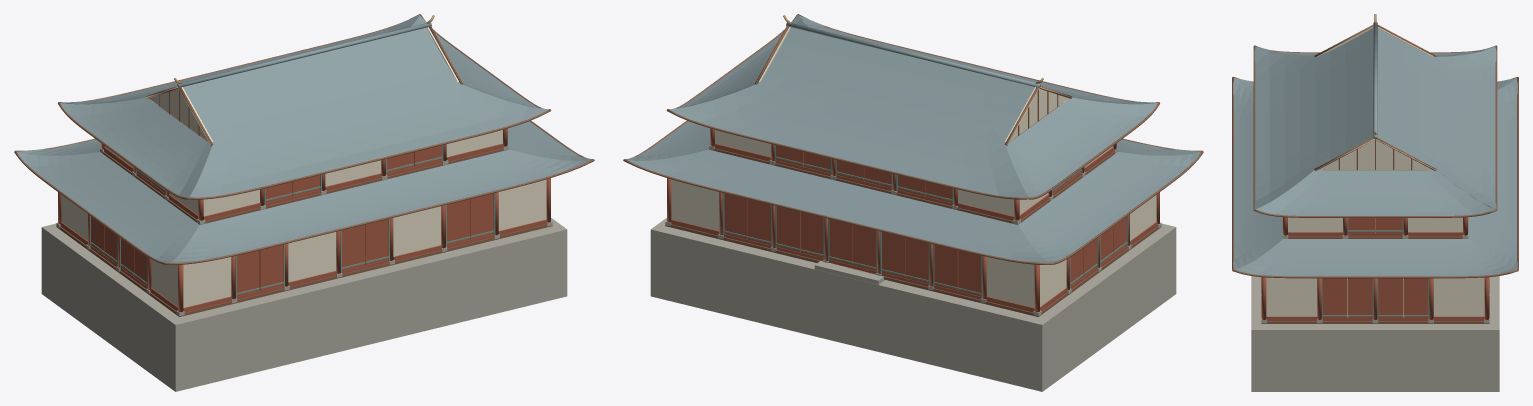
File: Keep_LOD2.fbx
3 renders of one model, left to right at view 1: azimuth 30°, elevation 25°; view 2: azimuth 150°, elevation 25°; view 3: azimuth 270°, elevation 25°, orthographic. The views are drawn at different scales.
Parts seen in each view (by area): view 1: Keep_Detail2_Roof, Keep_Detail2_Stone, Keep_Detail2_Vermilion, Keep_Detail2_Plaster, Keep_Detail2_Timber, Keep_Detail2_Jade; view 2: Keep_Detail2_Roof, Keep_Detail2_Stone, Keep_Detail2_Vermilion, Keep_Detail2_Plaster, Keep_Detail2_Timber, Keep_Detail2_Jade; view 3: Keep_Detail2_Roof, Keep_Detail2_Stone, Keep_Detail2_Vermilion, Keep_Detail2_Plaster, Keep_Detail2_Timber, Keep_Detail2_Jade.
Part boxes in pixels (<box>): Keep_Detail2_Roof: <box>17,15,591,262</box>; Keep_Detail2_Stone: <box>41,145,567,391</box>; Keep_Detail2_Vermilion: <box>58,128,550,312</box>; Keep_Detail2_Plaster: <box>61,27,546,307</box>; Keep_Detail2_Timber: <box>14,14,594,316</box>; Keep_Detail2_Jade: <box>89,102,495,298</box>; Keep_Detail2_Roof: <box>626,15,1200,262</box>; Keep_Detail2_Stone: <box>650,145,1176,391</box>; Keep_Detail2_Vermilion: <box>667,128,1159,312</box>; Keep_Detail2_Plaster: <box>671,27,1156,307</box>; Keep_Detail2_Timber: <box>623,14,1203,316</box>; Keep_Detail2_Jade: <box>722,102,1128,298</box>; Keep_Detail2_Roof: <box>1233,22,1517,276</box>; Keep_Detail2_Stone: <box>1251,233,1499,391</box>; Keep_Detail2_Vermilion: <box>1261,217,1489,320</box>; Keep_Detail2_Plaster: <box>1266,27,1484,317</box>; Keep_Detail2_Timber: <box>1232,25,1518,323</box>; Keep_Detail2_Jade: <box>1321,218,1429,319</box>.
Size of the model in its own units: 53.44 by 29.72 by 33.44.
